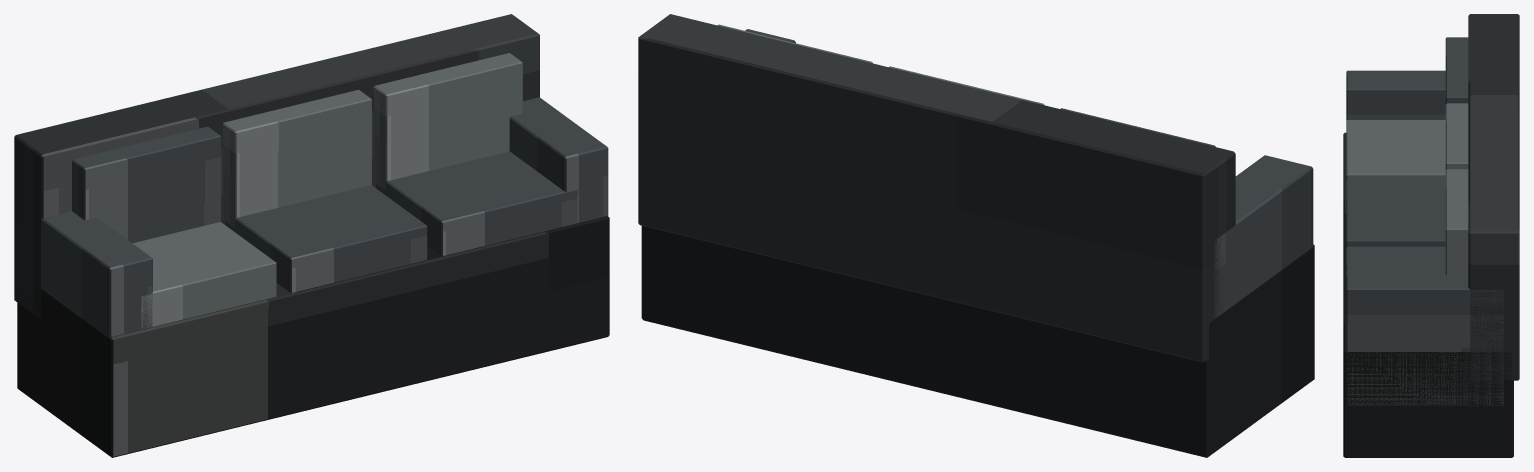
The model's file is lounge_couch_black_wide.glb.
3 views of the same model, side by side, from view 1: azimuth 30°, elevation 25°; view 2: azimuth 150°, elevation 25°; view 3: azimuth 270°, elevation 25° (orthographic). The views are drawn at different scales.
Parts seen in each view (by area): view 1: CouchBase, CouchBack, BackCushion_2, BackCushion_3, SeatCushion_2, BackCushion_1, SeatCushion_3, CouchArm_L, SeatCushion_1, CouchArm_R; view 2: CouchBack, CouchBase, CouchArm_L; view 3: CouchBack, CouchBase, CouchArm_R, SeatCushion_2, SeatCushion_1, CouchArm_L, BackCushion_3, SeatCushion_3, BackCushion_1, BackCushion_2.
Part boxes in pixels (x1,y1,x2,y2): CouchBase: (17,216,609,457); CouchBack: (14,14,539,319); BackCushion_2: (223,89,371,227); BackCushion_3: (373,53,522,190); SeatCushion_2: (225,185,427,292); BackCushion_1: (72,126,221,243); SeatCushion_3: (376,151,577,255); CouchArm_L: (41,211,152,338); SeatCushion_1: (132,222,276,328); CouchArm_R: (509,97,608,222); CouchBack: (638,14,1235,362); CouchBase: (641,226,1314,457); CouchArm_L: (1214,155,1313,318); CouchBack: (1468,14,1519,380); CouchBase: (1343,132,1513,457); CouchArm_R: (1346,270,1503,405); SeatCushion_2: (1346,180,1445,247); SeatCushion_1: (1346,120,1445,180); CouchArm_L: (1346,70,1445,120); BackCushion_3: (1445,169,1468,275); SeatCushion_3: (1346,246,1445,270); BackCushion_1: (1445,37,1468,103); BackCushion_2: (1445,103,1468,169).
Bounding box in the file's own units: 1.82 × 0.91 × 0.62.
1 material, 1 textured.
